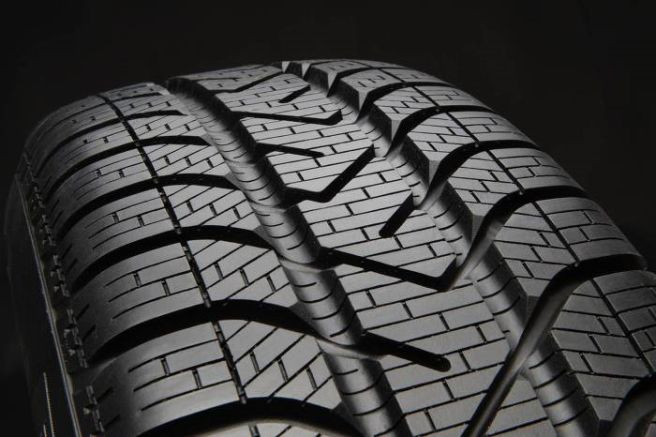new_condition: (58, 53, 654, 430)
